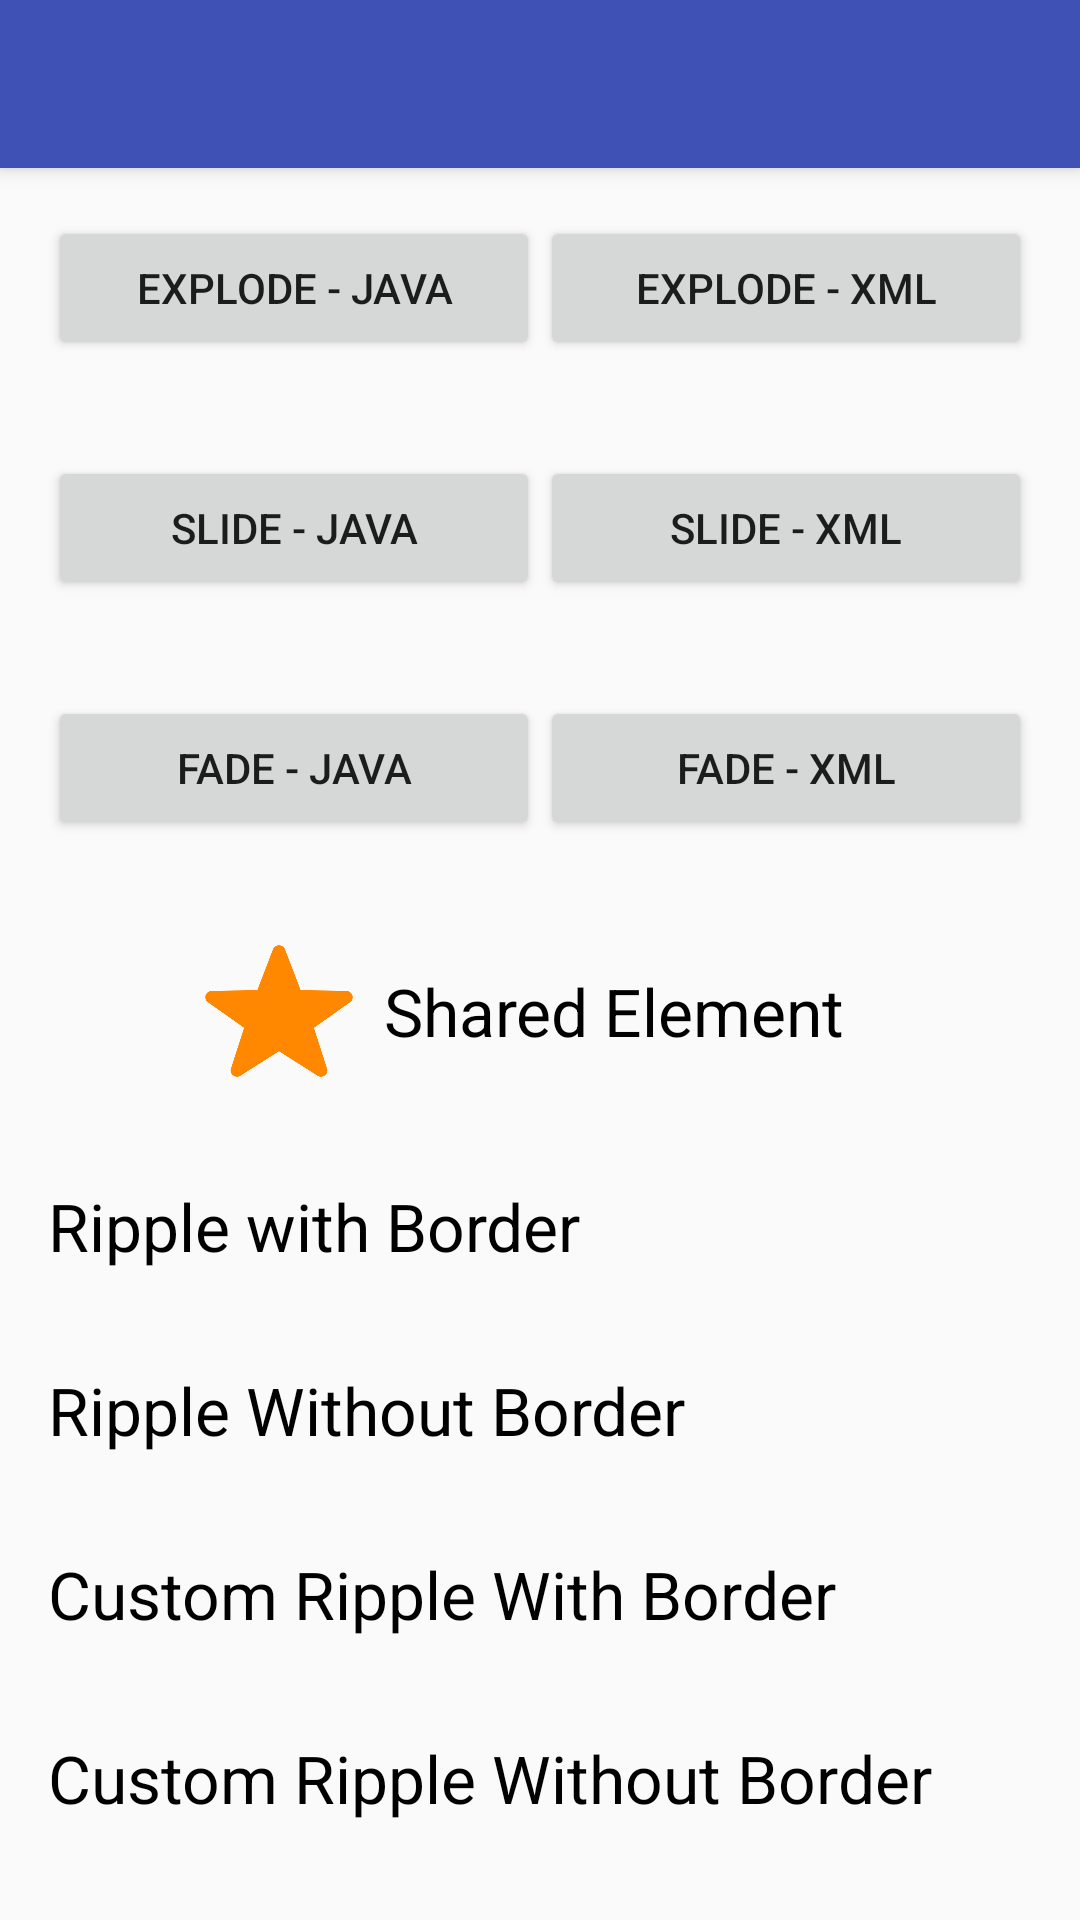

Icon click points for this 1080px×1920px phone screenshot, format [x,y]:
star: [279,1011]
